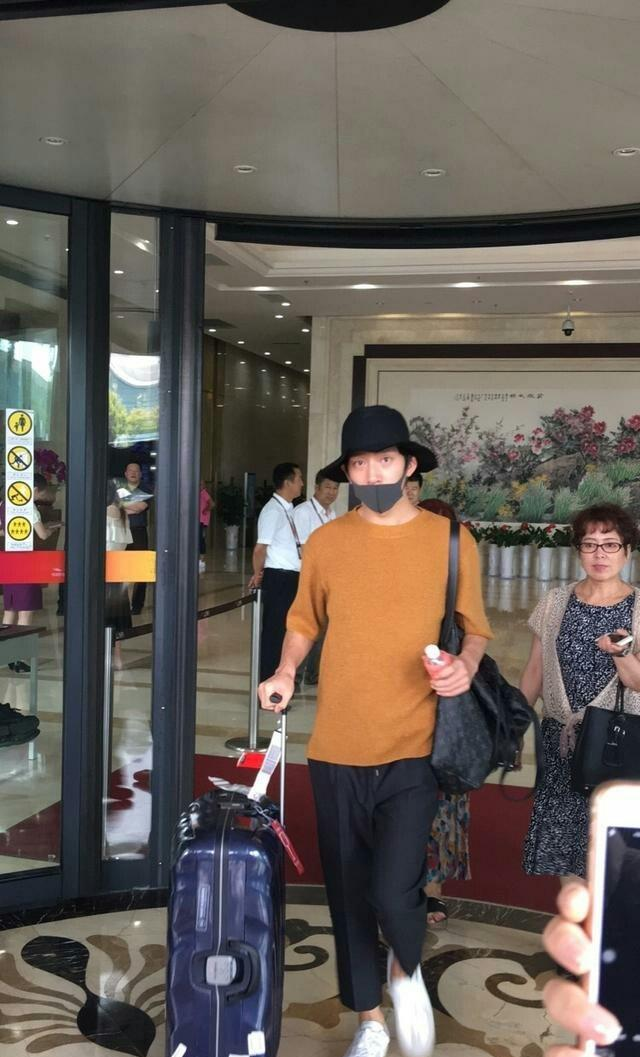NONE: (583, 537, 625, 582), (321, 482, 338, 504), (405, 483, 421, 504), (126, 467, 144, 484)
WRONG: (342, 442, 415, 515)
